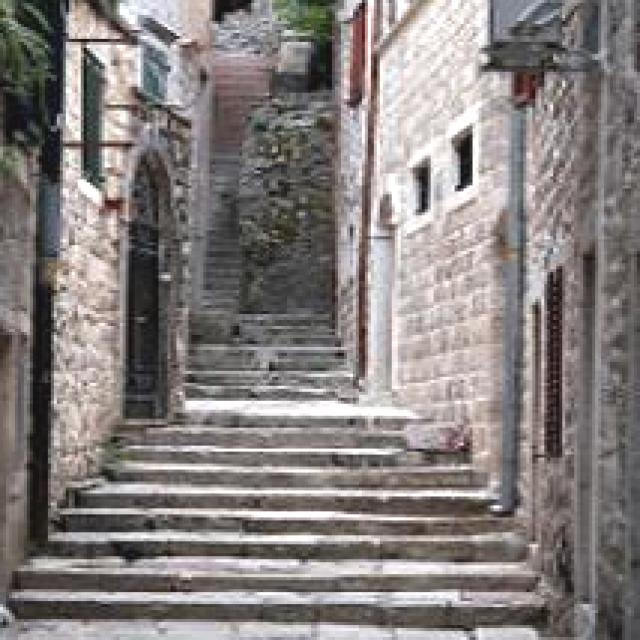upstair: (64, 402, 518, 620)
